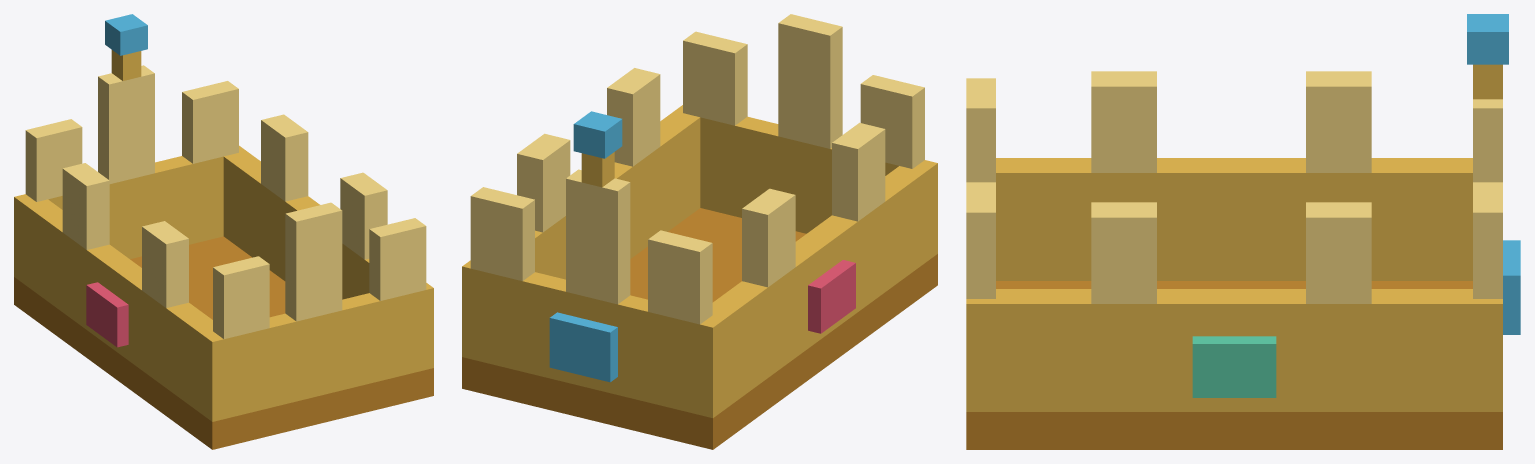
The model's file is royal_crown.glb.
The picture shows the model from 3 angles, left to right: view 1: azimuth 30°, elevation 25°; view 2: azimuth 150°, elevation 25°; view 3: azimuth 270°, elevation 25°; orthographic projection. The views are drawn at different scales.
Parts seen in each view (by area): view 1: back_band, gold_base, left_band, front_band, right_band, back_point_2, front_point_2, back_point_3, back_point_1, front_point_3, front_point_1, right_point_1 (+6 smaller); view 2: front_band, gold_base, left_band, back_band, right_band, back_point_2, front_point_2, front_point_1, back_point_3, front_point_3, left_point_1, left_point_2 (+7 smaller); view 3: right_band, left_band, gold_base, left_point_1, left_point_2, right_point_1, right_point_2, jade_right_jewel, front_point_3, back_point_3, front_band, back_band (+5 smaller).
Boxes of the visible parts, x1,y1,x2,y2 form: back_band: [201, 283, 433, 421]; gold_base: [14, 236, 433, 449]; left_band: [25, 199, 212, 413]; front_band: [14, 145, 245, 284]; right_band: [223, 151, 369, 299]; back_point_2: [285, 202, 342, 321]; front_point_2: [98, 65, 154, 183]; back_point_3: [369, 218, 426, 300]; back_point_1: [213, 256, 269, 339]; front_point_3: [182, 81, 238, 163]; front_point_1: [25, 119, 82, 201]; right_point_1: [261, 114, 308, 201]; front_band: [462, 260, 725, 417]; gold_base: [462, 208, 937, 449]; left_band: [712, 166, 925, 408]; back_band: [675, 105, 937, 262]; right_band: [535, 111, 700, 279]; back_point_2: [778, 14, 842, 148]; front_point_2: [566, 169, 630, 304]; front_point_1: [648, 230, 712, 324]; back_point_3: [683, 31, 747, 125]; front_point_3: [470, 187, 534, 280]; left_point_1: [742, 188, 795, 287]; left_point_2: [832, 122, 885, 221]; right_band: [996, 289, 1472, 411]; left_band: [996, 158, 1472, 280]; gold_base: [966, 281, 1502, 449]; left_point_1: [1306, 71, 1371, 172]; left_point_2: [1091, 71, 1156, 172]; right_point_1: [1306, 202, 1371, 303]; right_point_2: [1091, 202, 1156, 303]; jade_right_jewel: [1192, 336, 1276, 397]; front_point_3: [1473, 182, 1502, 298]; back_point_3: [966, 182, 995, 298]; front_band: [1473, 299, 1502, 411]; back_band: [966, 299, 995, 411].
Bounding box in the file's own units: 0.2 × 0.2031 × 0.2906.
